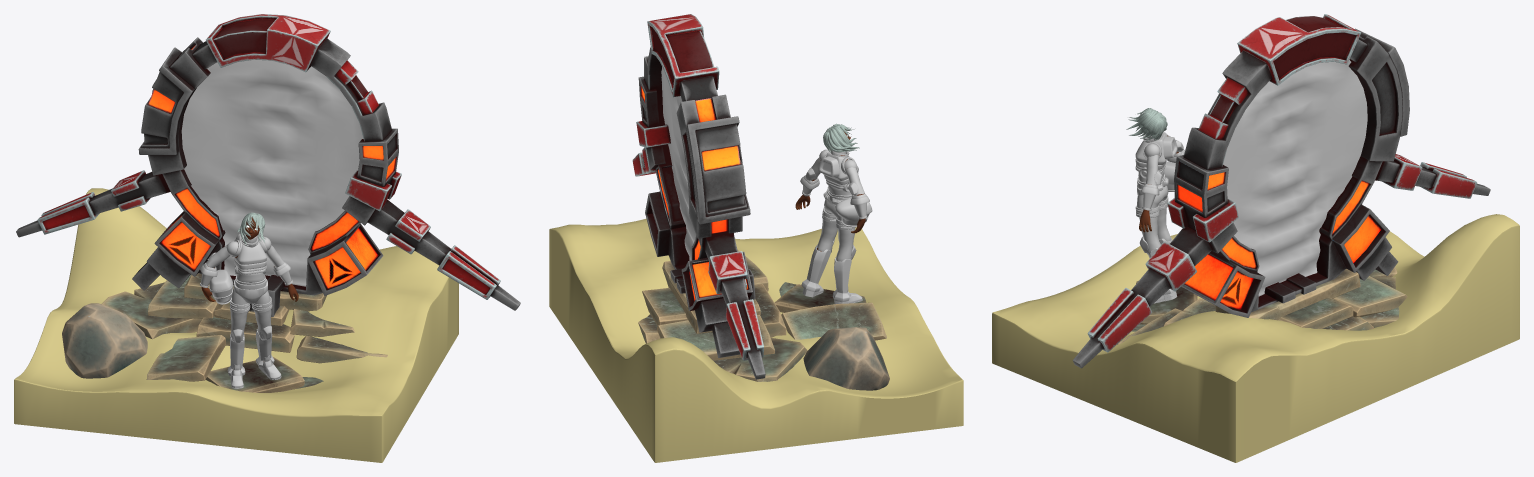
The model's file is teleport_sketchfab.fbx.
3 views of the same model, side by side, from view 1: azimuth 30°, elevation 25°; view 2: azimuth 150°, elevation 25°; view 3: azimuth 270°, elevation 25° (orthographic). The views are drawn at different scales.
Visible parts, largest first — view 1: desert2_low, liquid_low, teleport.body_low, teleport.part1_low, stone_low, teleport.part7_low, teleport.part6_low, teleport.part3_low, schod2_low.001, teleport.part4_low, schod5_low, teleport.part2_low (+10 smaller); view 2: desert2_low, teleport.body_low, teleport.part3_low, stone_low, teleport.part1_low, teleport.part7_low, schod2_low.001, teleport.part2_low, liquid_low, teleport.part6_low, schod5_low, teleport.lastpart_low (+14 smaller); view 3: desert2_low, liquid_low, teleport.body_low, teleport.part1_low, teleport.part7_low, teleport.part2_low, teleport.part6_low, teleport.part4_low, schod1_low, schod2_low, teleport.part5_low, schod3_low (+7 smaller).
Part boxes in pixels (<box>): desert2_low: <box>14,188,458,462</box>; liquid_low: <box>181,59,363,286</box>; teleport.body_low: <box>154,38,391,295</box>; teleport.part1_low: <box>206,14,330,72</box>; stone_low: <box>62,303,147,378</box>; teleport.part7_low: <box>37,170,500,299</box>; teleport.part6_low: <box>16,172,520,310</box>; teleport.part3_low: <box>138,47,194,154</box>; schod2_low.001: <box>146,335,225,381</box>; teleport.part4_low: <box>342,128,398,225</box>; schod5_low: <box>101,282,202,339</box>; teleport.part2_low: <box>148,37,210,175</box>; desert2_low: <box>549,218,963,462</box>; teleport.body_low: <box>644,47,752,310</box>; teleport.part3_low: <box>686,116,750,224</box>; stone_low: <box>803,327,889,390</box>; teleport.part1_low: <box>647,14,719,97</box>; teleport.part7_low: <box>632,147,763,360</box>; schod2_low.001: <box>781,302,886,340</box>; teleport.part2_low: <box>676,94,742,238</box>; liquid_low: <box>661,67,695,260</box>; teleport.part6_low: <box>703,231,765,379</box>; schod5_low: <box>713,337,807,381</box>; teleport.lastpart_low: <box>695,298,740,357</box>; desert2_low: <box>992,214,1519,462</box>; liquid_low: <box>1223,60,1367,296</box>; teleport.body_low: <box>1181,39,1389,317</box>; teleport.part1_low: <box>1237,14,1360,85</box>; teleport.part7_low: <box>1087,154,1476,352</box>; teleport.part2_low: <box>1348,36,1402,161</box>; teleport.part6_low: <box>1072,161,1490,368</box>; teleport.part4_low: <box>1174,155,1237,253</box>; schod1_low: <box>1215,269,1360,320</box>; schod2_low: <box>1333,276,1407,317</box>; teleport.part5_low: <box>1167,198,1238,242</box>; schod3_low: <box>1280,297,1353,328</box>.
Size of the model in its own units: 493 by 375 by 491.
